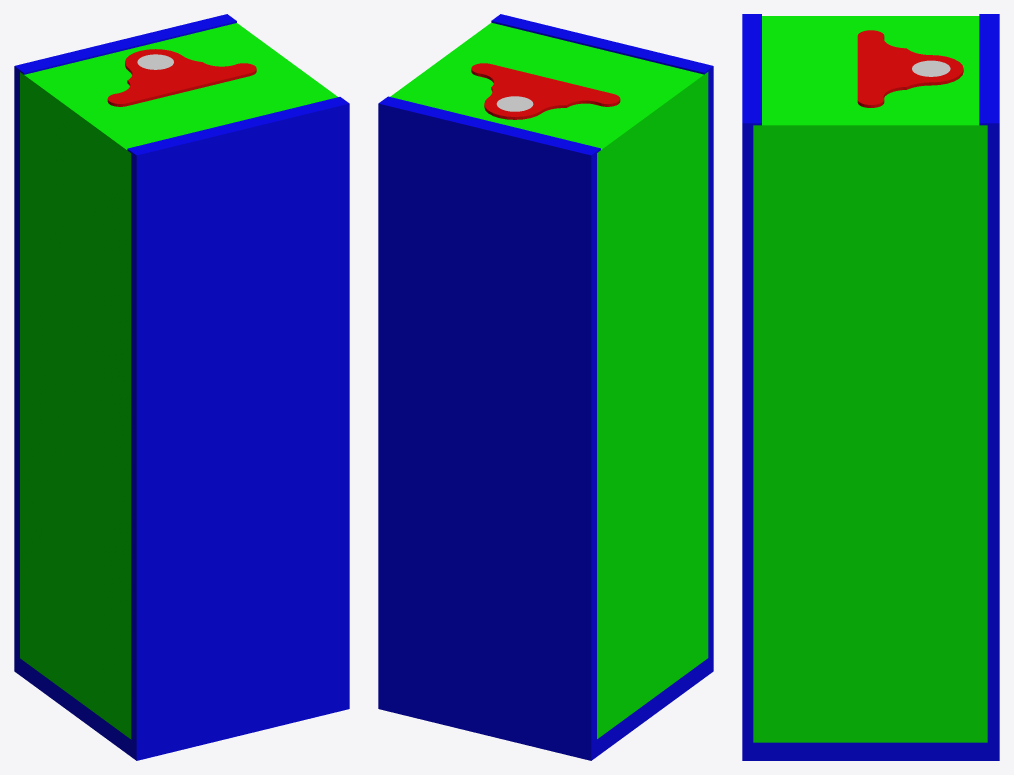
The model's file is 3Dtrench.glb.
The picture shows the model from 3 angles, left to right: view 1: azimuth 30°, elevation 25°; view 2: azimuth 150°, elevation 25°; view 3: azimuth 270°, elevation 25°; orthographic projection. The views are drawn at different scales.
Visible parts, largest first — view 1: Node136, Node137, Node135, Node16, Node11, Node138, Node141, Node148, Node4, Node44; view 2: Node140, Node137, Node135, Node16, Node138, Node11, Node141, Node148, Node4, Node44; view 3: Node144, Node135, Node16, Node143, Node8, Node7, Node141, Node148, Node44, Node77, Node81, Node17.
Part boxes in pixels (<box>): Node136: <box>136,103,349,760</box>; Node137: <box>20,72,131,739</box>; Node135: <box>76,60,337,149</box>; Node16: <box>24,23,287,112</box>; Node11: <box>14,68,19,657</box>; Node138: <box>131,153,136,743</box>; Node141: <box>15,14,236,72</box>; Node148: <box>128,97,349,155</box>; Node4: <box>20,658,131,756</box>; Node44: <box>128,62,212,87</box>; Node140: <box>378,103,591,760</box>; Node137: <box>597,72,708,738</box>; Node135: <box>440,22,703,112</box>; Node16: <box>390,60,651,149</box>; Node138: <box>708,68,713,657</box>; Node11: <box>591,153,596,743</box>; Node141: <box>378,96,600,155</box>; Node148: <box>491,14,712,72</box>; Node4: <box>597,658,708,756</box>; Node44: <box>492,79,576,105</box>; Node144: <box>753,125,987,742</box>; Node135: <box>762,16,870,125</box>; Node16: <box>871,16,979,125</box>; Node143: <box>987,125,999,742</box>; Node8: <box>742,123,753,742</box>; Node7: <box>753,742,987,760</box>; Node141: <box>979,14,999,123</box>; Node148: <box>742,14,761,123</box>; Node44: <box>884,48,906,86</box>; Node77: <box>857,48,870,86</box>; Node81: <box>871,48,884,86</box>; Node17: <box>929,55,963,82</box>.
Bounding box in the file's own units: 2179 × 5931 × 2168.
